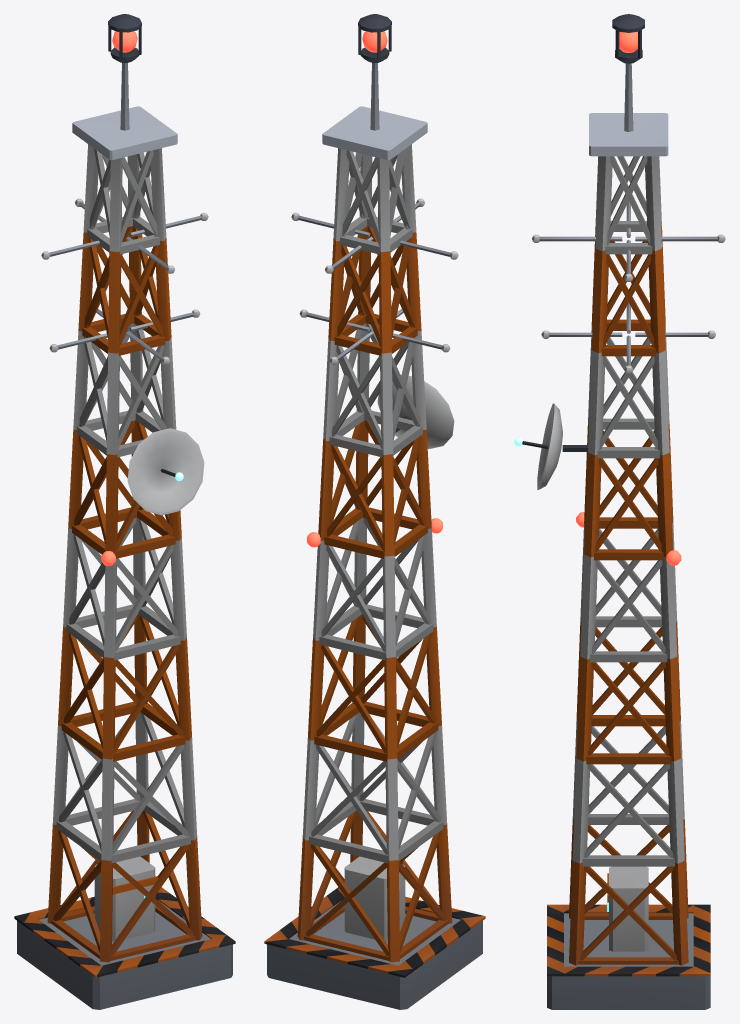
Rendered from antenna_tower.glb.
3 renders of one model, left to right at view 1: azimuth 30°, elevation 25°; view 2: azimuth 150°, elevation 25°; view 3: azimuth 270°, elevation 25°, orthographic.
Parts seen in each view (by area): view 1: antenna_tower; view 2: antenna_tower; view 3: antenna_tower.
Part boxes in pixels (<box>): antenna_tower: <box>14,14,235,1009</box>; antenna_tower: <box>264,14,485,1009</box>; antenna_tower: <box>514,14,725,1009</box>.
Bounding box in the file's own units: 1.46 × 8 × 1.6.
